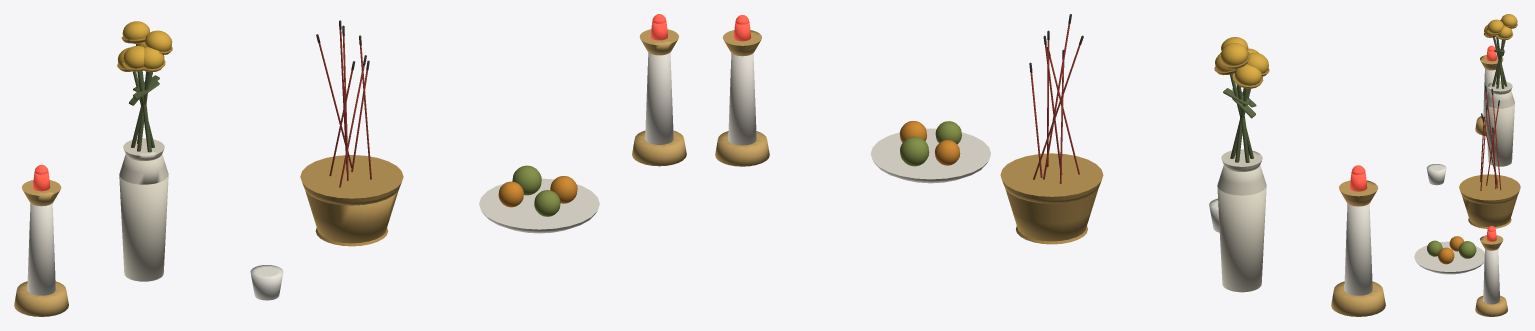
Rendered from DoTrenBanTho.glb.
3 renders of one model, left to right at view 1: azimuth 30°, elevation 25°; view 2: azimuth 150°, elevation 25°; view 3: azimuth 270°, elevation 25°, orthographic. The views are drawn at different scales.
Visible parts, largest first — view 1: LoHoaCuc, BatHuong, DiaQua, DenNen_R, DenNen_L, ChenNuocTrong; view 2: LoHoaCuc, BatHuong, DiaQua, DenNen_L, DenNen_R; view 3: BatHuong, LoHoaCuc, DiaQua, DenNen_R, DenNen_L, ChenNuocTrong.
Boxes of the visible parts, x1,y1,x2,y2 form: LoHoaCuc: [117, 21, 172, 281]; BatHuong: [300, 20, 403, 246]; DiaQua: [479, 165, 599, 233]; DenNen_R: [632, 14, 686, 166]; DenNen_L: [14, 164, 68, 316]; ChenNuocTrong: [250, 265, 283, 300]; LoHoaCuc: [1214, 37, 1269, 292]; BatHuong: [1000, 14, 1103, 244]; DiaQua: [870, 121, 990, 183]; DenNen_L: [1331, 165, 1385, 316]; DenNen_R: [715, 15, 769, 166]; BatHuong: [1459, 85, 1520, 228]; LoHoaCuc: [1484, 14, 1517, 166]; DiaQua: [1414, 236, 1484, 274]; DenNen_R: [1475, 226, 1507, 316]; DenNen_L: [1475, 45, 1503, 135]; ChenNuocTrong: [1426, 164, 1446, 185].
Bounding box in the file's own units: 1.34 × 0.4707 × 0.3099.
